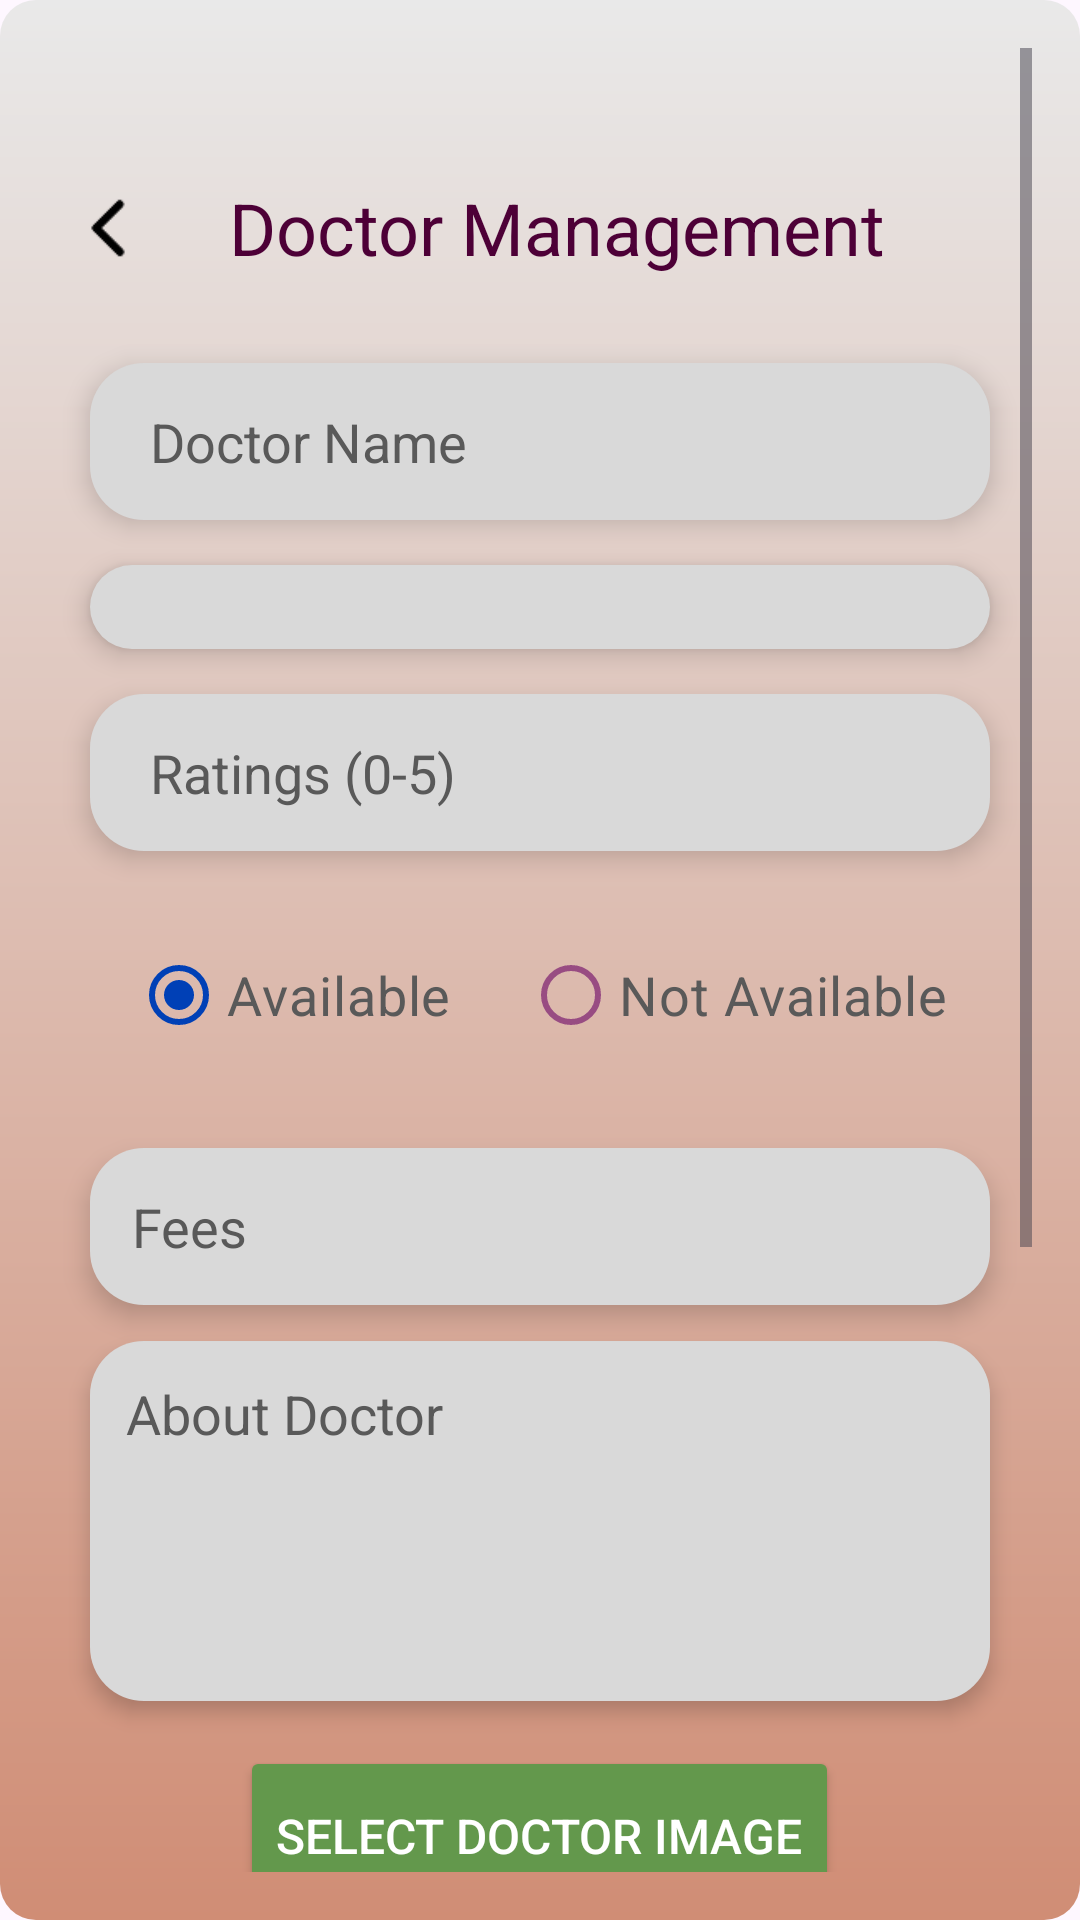

Named icons in this screenshot (1080×1920) and their bounding boxes, (x1, y1, x2, y2):
Back: (91, 199, 125, 257)
